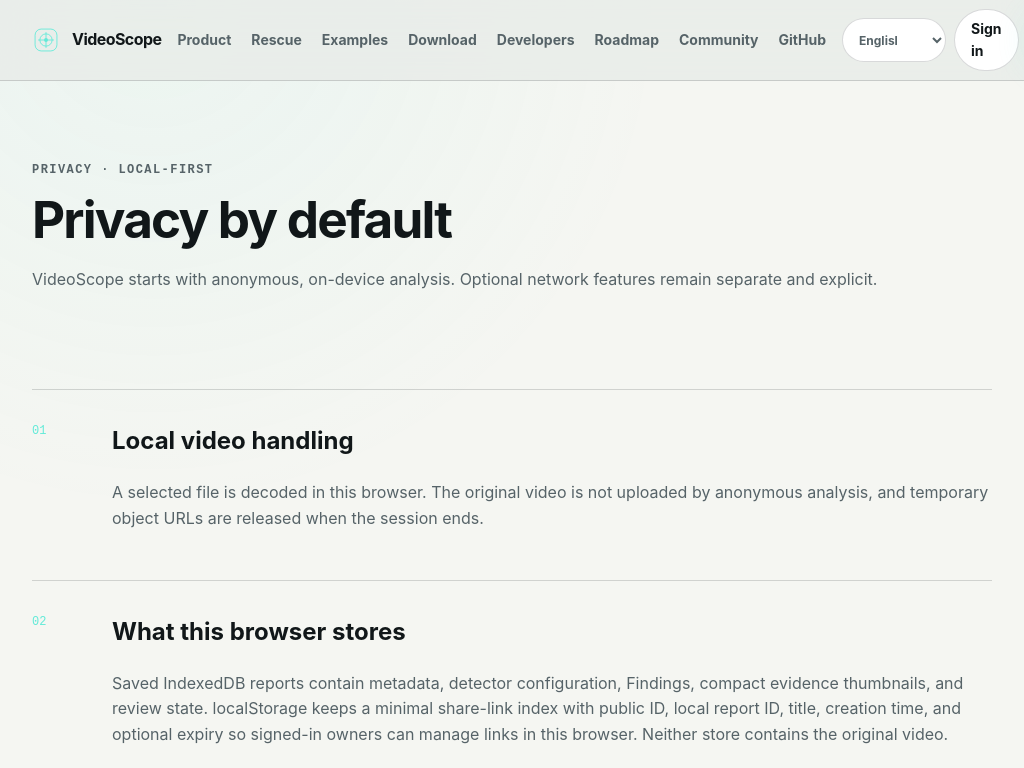
Test: public static pages › distinguishes deletable device accounts from disabled cloud sign-in
Select "简体中文" in the dropdown named "Language" at (894, 40), box [842,18,946,62]
(page scrolled)
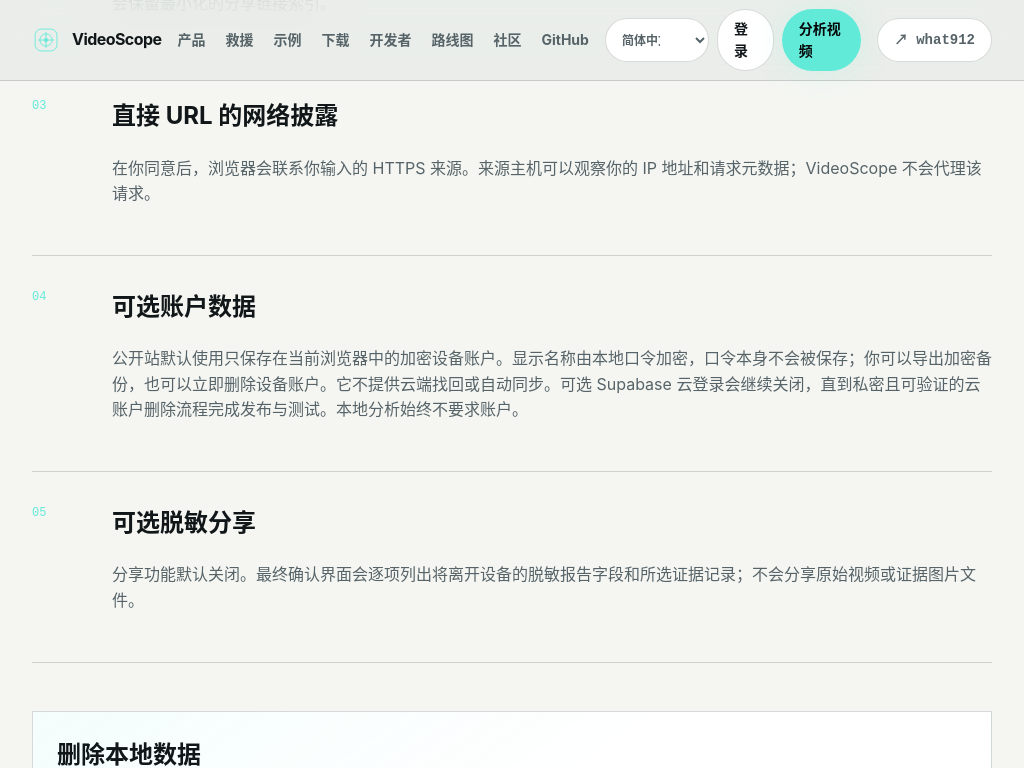
Check: the text "Supabase 云登录会继续关闭" is shown, box [112,348,992,419]
